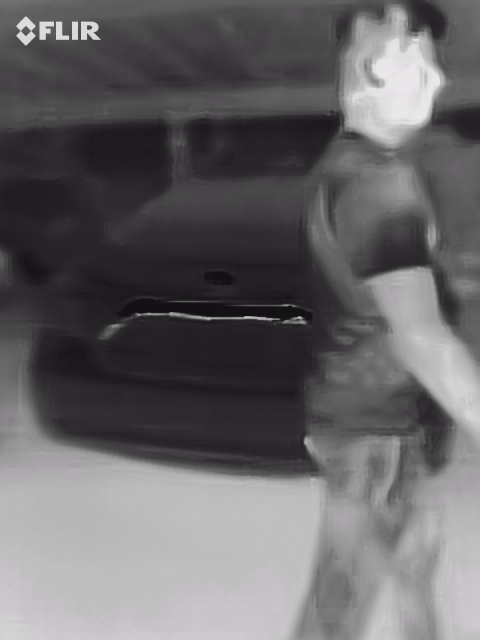head: (336, 6, 449, 137)
